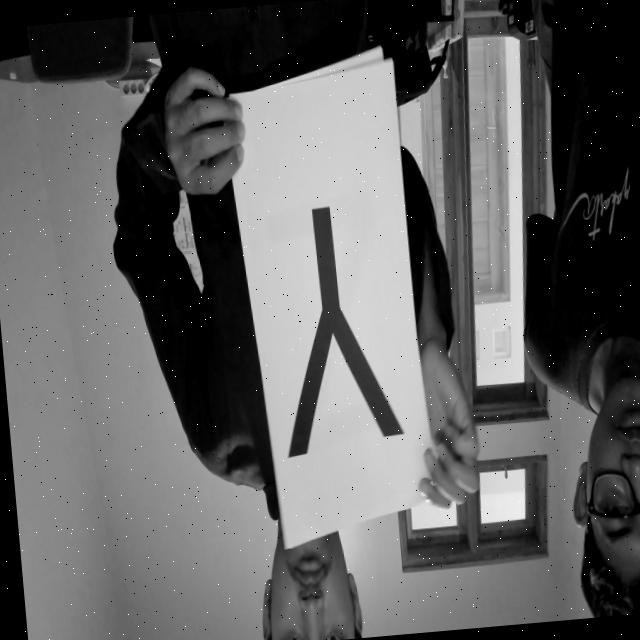y: (228, 142, 422, 490)
